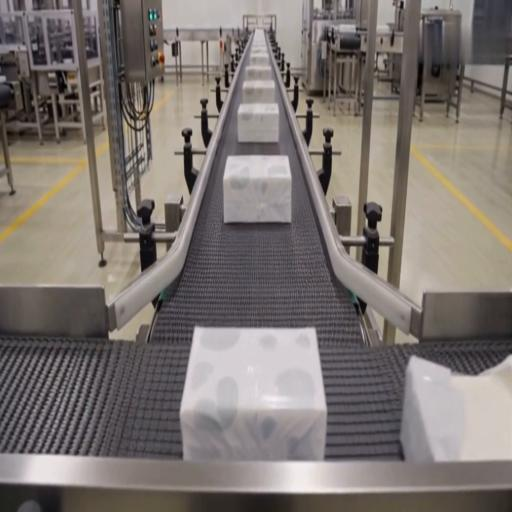defective: (403, 352, 511, 466)
good: (181, 325, 325, 463), (222, 154, 292, 225), (236, 102, 281, 144), (240, 80, 276, 106), (245, 35, 272, 64), (244, 63, 274, 83)
